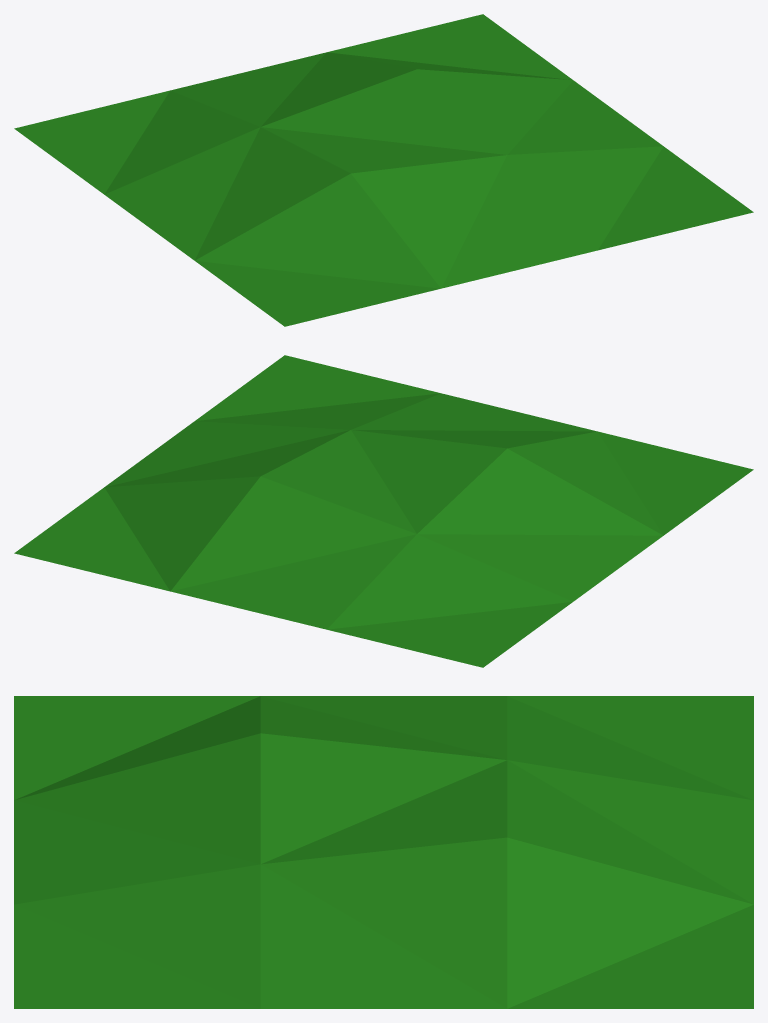
File: grass_tile.dae
The picture shows the model from 3 angles, top to bottom: view 1: azimuth 30°, elevation 25°; view 2: azimuth 150°, elevation 25°; view 3: azimuth 270°, elevation 25°; orthographic projection. The views are drawn at different scales.
Parts seen in each view (by area): view 1: grass_tile; view 2: grass_tile; view 3: grass_tile.
Part boxes in pixels (bbox=[...]): grass_tile: bbox=[14, 14, 753, 326]; grass_tile: bbox=[14, 355, 753, 667]; grass_tile: bbox=[14, 696, 753, 1008].
Bounding box in the file's own units: 1 × 1 × 0.1.
